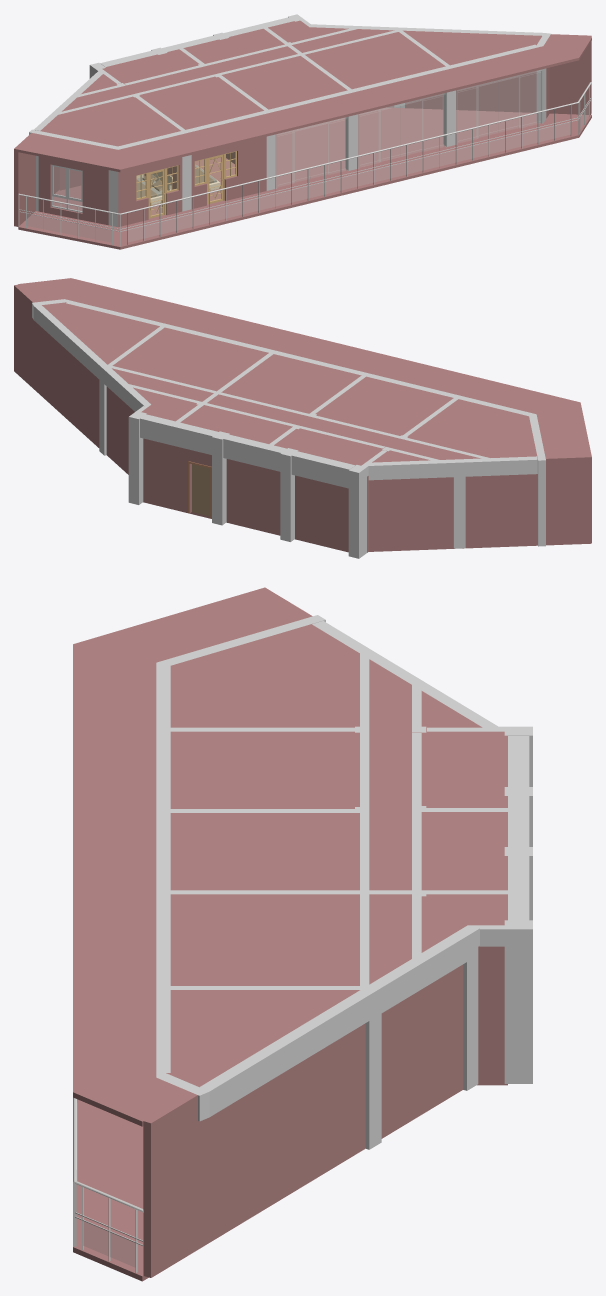
The picture shows the model from 3 angles, top to bottom: view 1: azimuth 30°, elevation 25°; view 2: azimuth 150°, elevation 25°; view 3: azimuth 270°, elevation 25°; orthographic projection. The views are drawn at different scales.
Visible parts, largest first — view 1: product-b14e6850-0923-4e9c-8fc8-7df009966c7c-body, product-afa2e2c0-8755-4b93-83d7-5b8e1e7de5d6-body, product-f92eb6d0-8de4-47e8-805d-3aa15d0c72ad-body, product-d61783cc-16d0-4b07-9f55-0860da3a2ec0-body, product-d61783cc-16d0-4b07-9f55-0860da3a2ec3-body, product-d61783cc-16d0-4b07-9f55-0860da3a2ec1-body, product-afa2e2c0-8755-4b93-83d7-5b8e1e7dea0b-body, product-afa2e2c0-8755-4b93-83d7-5b8e1e7dea60-body, product-afa2e2c0-8755-4b93-83d7-5b8e1e7de8ae-body, product-afa2e2c0-8755-4b93-83d7-5b8e1e7de8b6-body, product-afa2e2c0-8755-4b93-83d7-5b8e1e7de800-body, product-d61783cc-16d0-4b07-9f55-0860da3a2421-body (+16 smaller); view 2: product-b14e6850-0923-4e9c-8fc8-7df009966c7c-body, product-afa2e2c0-8755-4b93-83d7-5b8e1e7de8b7-body, product-afa2e2c0-8755-4b93-83d7-5b8e1e7dea65-body, product-afa2e2c0-8755-4b93-83d7-5b8e1e7dea0b-body, product-d61783cc-16d0-4b07-9f55-0860da3a2421-body, product-afa2e2c0-8755-4b93-83d7-5b8e1e7dea68-body, product-afa2e2c0-8755-4b93-83d7-5b8e1e7dea6f-body, product-afa2e2c0-8755-4b93-83d7-5b8e1e7de8a9-body, product-afa2e2c0-8755-4b93-83d7-5b8e1e7de8b6-body, product-afa2e2c0-8755-4b93-83d7-5b8e1e7deb85-body, product-afa2e2c0-8755-4b93-83d7-5b8e1e7de844-body, product-afa2e2c0-8755-4b93-83d7-5b8e1e7dea6d-body (+18 smaller); view 3: product-b14e6850-0923-4e9c-8fc8-7df009966c7c-body, product-afa2e2c0-8755-4b93-83d7-5b8e1e7dea0b-body, product-afa2e2c0-8755-4b93-83d7-5b8e1e7dea6d-body, product-afa2e2c0-8755-4b93-83d7-5b8e1e7de5d6-body, product-afa2e2c0-8755-4b93-83d7-5b8e1e7de8b6-body, product-afa2e2c0-8755-4b93-83d7-5b8e1e7debe3-body, product-afa2e2c0-8755-4b93-83d7-5b8e1e7de846-body, product-afa2e2c0-8755-4b93-83d7-5b8e1e7dea69-body, product-afa2e2c0-8755-4b93-83d7-5b8e1e7debe1-body, product-f92eb6d0-8de4-47e8-805d-3aa15d0c72ad-body, product-afa2e2c0-8755-4b93-83d7-5b8e1e7de80b-body, product-afa2e2c0-8755-4b93-83d7-5b8e1e7de809-body (+13 smaller).
Part boxes in pixels (box(x1,y1,x2,y2)): product-b14e6850-0923-4e9c-8fc8-7df009966c7c-body: box(18, 20, 591, 172); product-afa2e2c0-8755-4b93-83d7-5b8e1e7de5d6-body: box(18, 107, 591, 249); product-f92eb6d0-8de4-47e8-805d-3aa15d0c72ad-body: box(18, 82, 591, 246); product-d61783cc-16d0-4b07-9f55-0860da3a2ec0-body: box(358, 93, 446, 168); product-d61783cc-16d0-4b07-9f55-0860da3a2ec3-body: box(456, 69, 543, 144); product-d61783cc-16d0-4b07-9f55-0860da3a2ec1-body: box(275, 117, 348, 188); product-afa2e2c0-8755-4b93-83d7-5b8e1e7dea0b-body: box(405, 71, 536, 112); product-afa2e2c0-8755-4b93-83d7-5b8e1e7dea60-body: box(191, 136, 266, 208); product-afa2e2c0-8755-4b93-83d7-5b8e1e7de8ae-body: box(38, 156, 108, 225); product-afa2e2c0-8755-4b93-83d7-5b8e1e7de8b6-body: box(549, 34, 591, 114); product-afa2e2c0-8755-4b93-83d7-5b8e1e7de800-body: box(118, 157, 182, 226); product-d61783cc-16d0-4b07-9f55-0860da3a2421-body: box(14, 133, 35, 226); product-b14e6850-0923-4e9c-8fc8-7df009966c7c-body: box(18, 278, 591, 465); product-afa2e2c0-8755-4b93-83d7-5b8e1e7de8b7-body: box(369, 477, 453, 551); product-afa2e2c0-8755-4b93-83d7-5b8e1e7dea65-body: box(465, 473, 537, 547); product-afa2e2c0-8755-4b93-83d7-5b8e1e7dea0b-body: box(34, 322, 99, 447); product-d61783cc-16d0-4b07-9f55-0860da3a2421-body: box(545, 455, 591, 544); product-afa2e2c0-8755-4b93-83d7-5b8e1e7dea68-body: box(226, 459, 280, 535); product-afa2e2c0-8755-4b93-83d7-5b8e1e7dea6f-body: box(295, 475, 348, 551); product-afa2e2c0-8755-4b93-83d7-5b8e1e7de8a9-body: box(143, 438, 211, 512); product-afa2e2c0-8755-4b93-83d7-5b8e1e7de8b6-body: box(14, 284, 37, 389); product-afa2e2c0-8755-4b93-83d7-5b8e1e7deb85-body: box(140, 414, 218, 454); product-afa2e2c0-8755-4b93-83d7-5b8e1e7de844-body: box(348, 465, 366, 558); product-afa2e2c0-8755-4b93-83d7-5b8e1e7dea6d-body: box(106, 386, 134, 474); product-b14e6850-0923-4e9c-8fc8-7df009966c7c-body: box(73, 590, 507, 1126); product-afa2e2c0-8755-4b93-83d7-5b8e1e7dea0b-body: box(201, 1023, 365, 1246); product-afa2e2c0-8755-4b93-83d7-5b8e1e7dea6d-body: box(381, 964, 463, 1138); product-afa2e2c0-8755-4b93-83d7-5b8e1e7de5d6-body: box(73, 1084, 507, 1281); product-afa2e2c0-8755-4b93-83d7-5b8e1e7de8b6-body: box(143, 1092, 203, 1277); product-afa2e2c0-8755-4b93-83d7-5b8e1e7debe3-body: box(200, 991, 369, 1116); product-afa2e2c0-8755-4b93-83d7-5b8e1e7de846-body: box(504, 920, 532, 1083); product-afa2e2c0-8755-4b93-83d7-5b8e1e7dea69-body: box(478, 946, 504, 1083); product-afa2e2c0-8755-4b93-83d7-5b8e1e7debe1-body: box(370, 925, 484, 1012); product-f92eb6d0-8de4-47e8-805d-3aa15d0c72ad-body: box(73, 1097, 143, 1275); product-afa2e2c0-8755-4b93-83d7-5b8e1e7de80b-body: box(358, 984, 381, 1149); product-afa2e2c0-8755-4b93-83d7-5b8e1e7de809-body: box(456, 925, 479, 1090).
Size of the model in its own units: 26.73 by 3.72 by 9.7.
